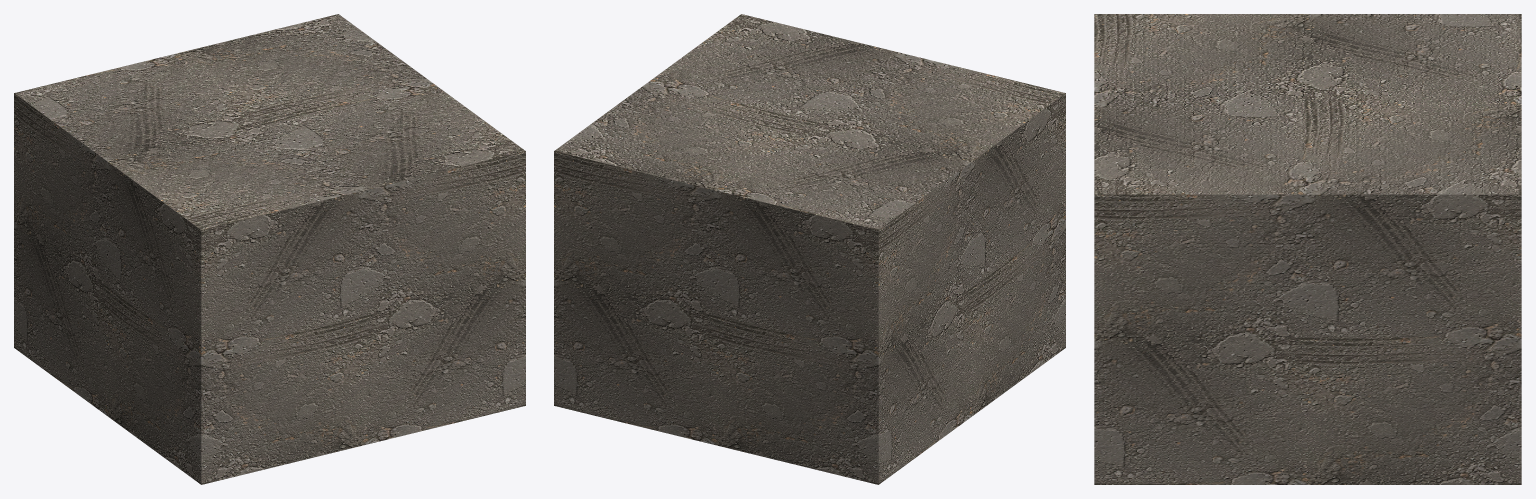
File: asphalt_one_zero.glb
3 renders of one model, left to right at view 1: azimuth 30°, elevation 25°; view 2: azimuth 150°, elevation 25°; view 3: azimuth 270°, elevation 25°, orthographic. The views are drawn at different scales.
Parts seen in each view (by area): view 1: Cube.005; view 2: Cube.005; view 3: Cube.005.
Boxes of the visible parts, x1,y1,x2,y2 form: Cube.005: (14, 14, 525, 484); Cube.005: (554, 14, 1065, 484); Cube.005: (1094, 14, 1521, 484).
Bounding box in the file's own units: 2 × 1.5 × 2.
Materials: 1 (1 with a texture image).
